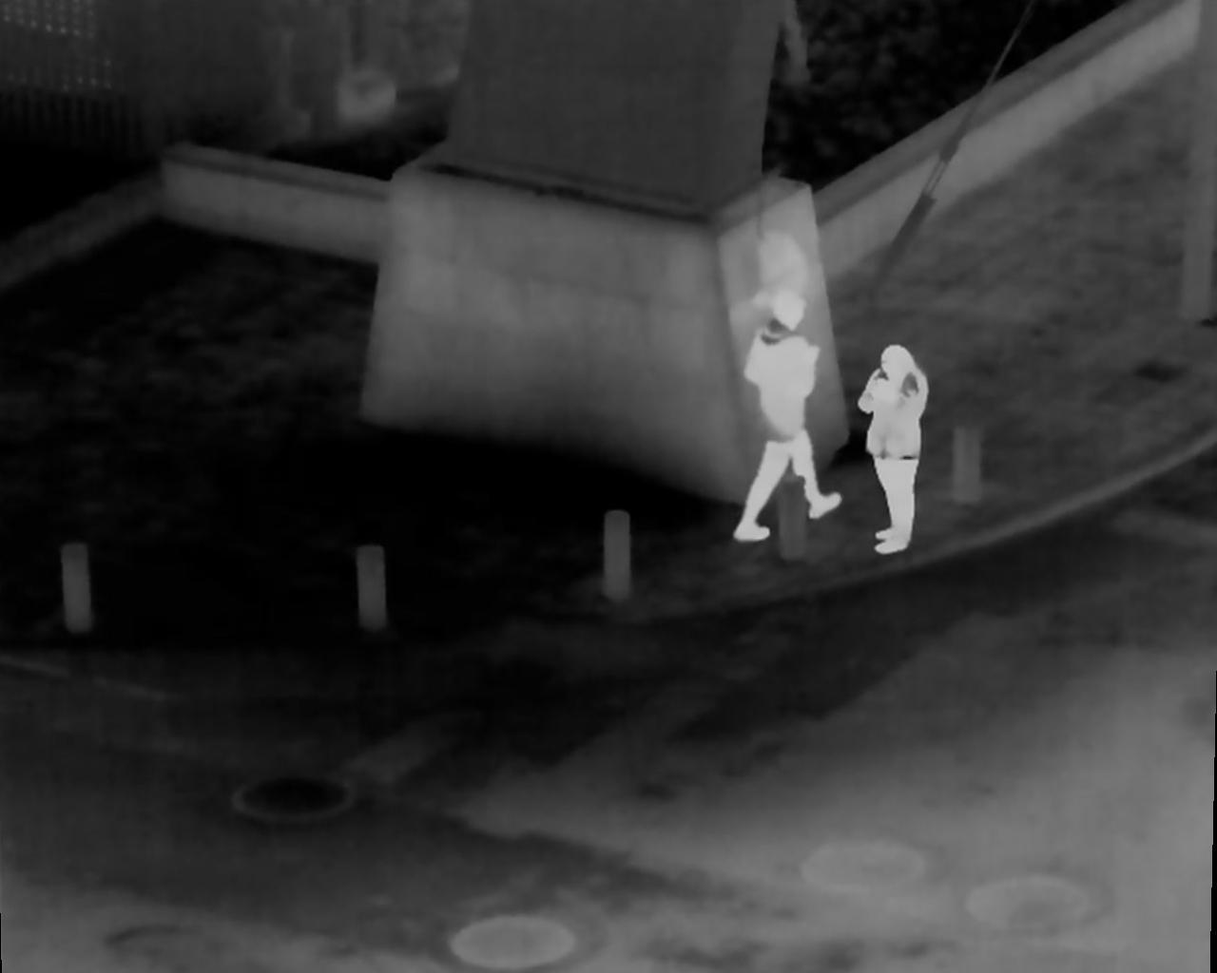person: (743, 294, 837, 544), (854, 344, 938, 563)
